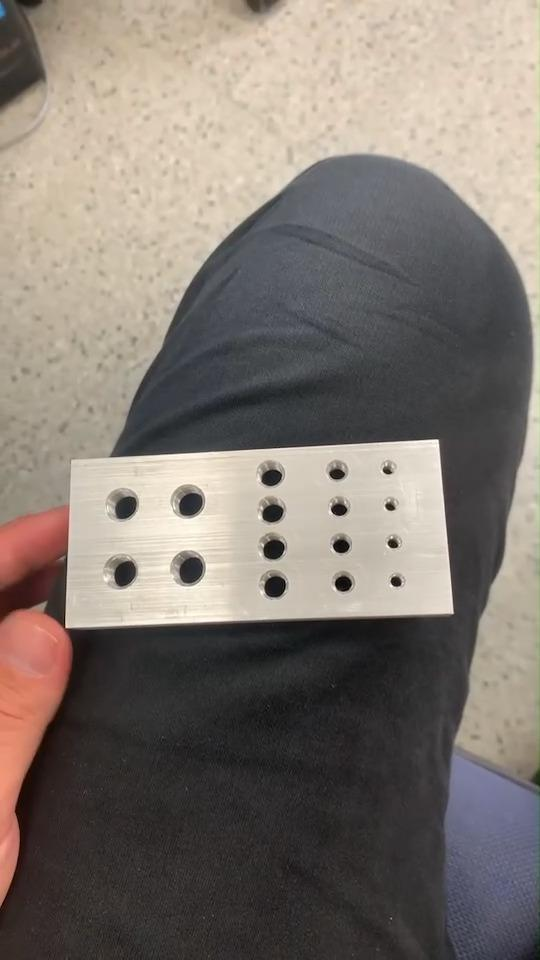hole: (96, 486, 145, 530), (168, 549, 212, 593), (167, 482, 209, 524), (100, 552, 140, 594), (252, 458, 288, 493), (254, 496, 292, 528), (256, 571, 292, 604), (257, 534, 292, 566), (325, 532, 356, 559), (324, 496, 354, 523), (324, 458, 354, 484), (329, 571, 357, 598), (377, 456, 400, 479), (380, 494, 402, 516), (384, 534, 404, 556), (388, 571, 407, 593)
